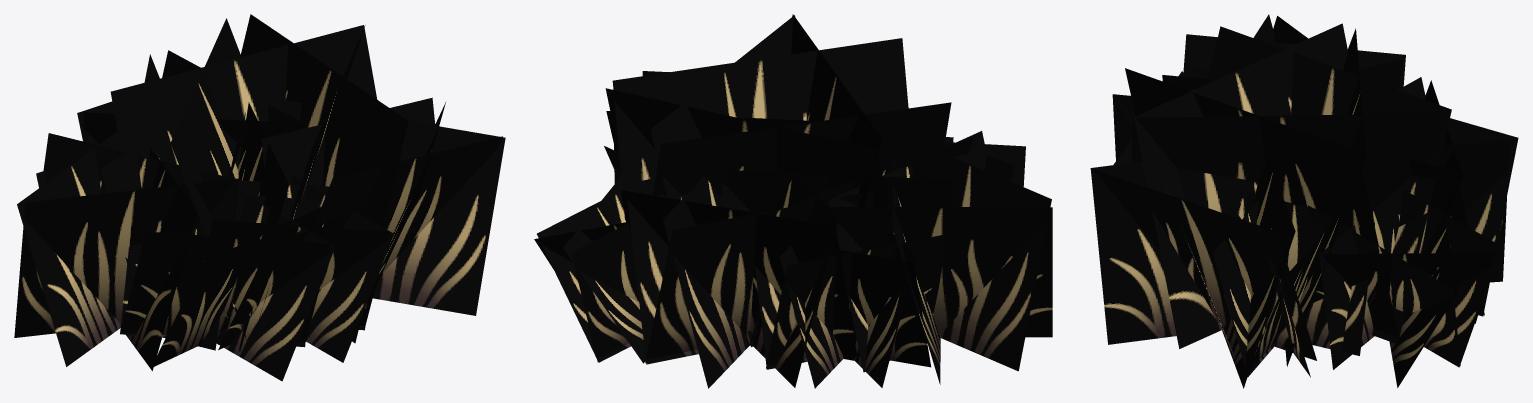
The model's file is pasto_alto_big.fbx.
The picture shows the model from 3 angles, left to right: view 1: azimuth 30°, elevation 25°; view 2: azimuth 150°, elevation 25°; view 3: azimuth 270°, elevation 25°; orthographic projection. The views are drawn at different scales.
Visible parts, largest first — view 1: pasto_alto_big; view 2: pasto_alto_big; view 3: pasto_alto_big.
Boxes of the visible parts, x1,y1,x2,y2 form: pasto_alto_big: (14,14,505,381); pasto_alto_big: (534,14,1052,388); pasto_alto_big: (1090,14,1518,388).
Size of the model in its own units: 140 by 70.49 by 114.
